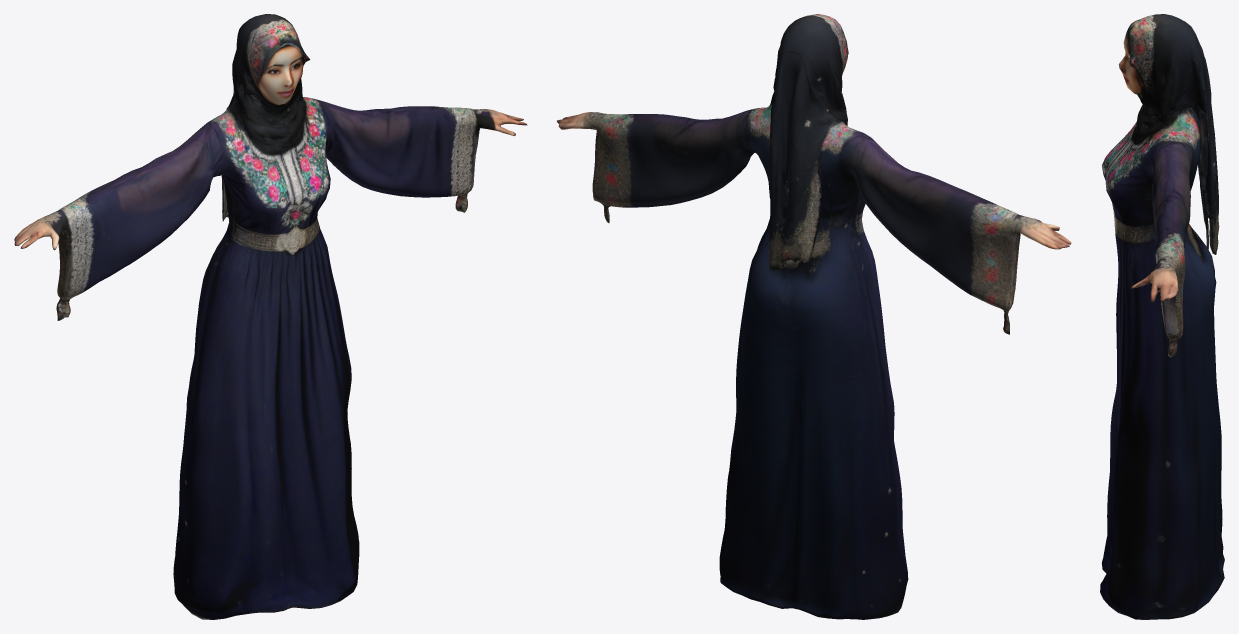
Rendered from Elegance_in_Tradition_1229211030_texture.fbx.
3 renders of one model, left to right at view 1: azimuth 30°, elevation 25°; view 2: azimuth 150°, elevation 25°; view 3: azimuth 270°, elevation 25°, orthographic.
Parts seen in each view (by area): view 1: Mesh_0.007; view 2: Mesh_0.007; view 3: Mesh_0.007.
Part boxes in pixels (x1,y1,x2,y2): Mesh_0.007: (14, 14, 527, 619); Mesh_0.007: (557, 14, 1071, 619); Mesh_0.007: (1100, 14, 1224, 619).
Size of the model in its own units: 185 by 200 by 39.81.
Materials: 1 (1 with a texture image).
